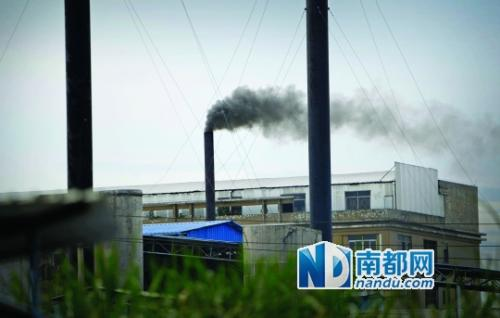smoke: (203, 80, 369, 139)
